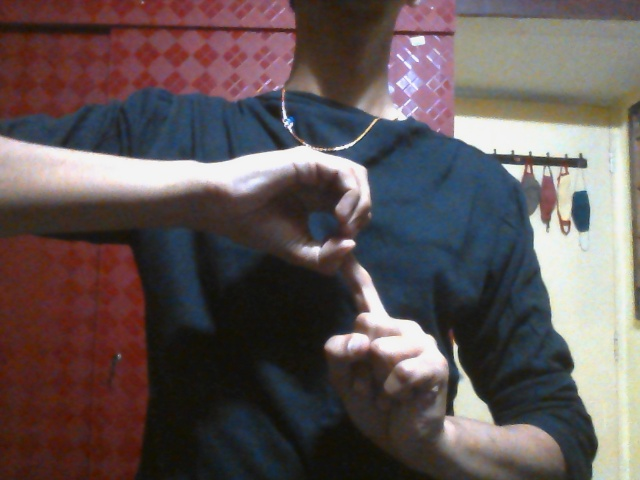Q: (205, 144, 451, 455)
